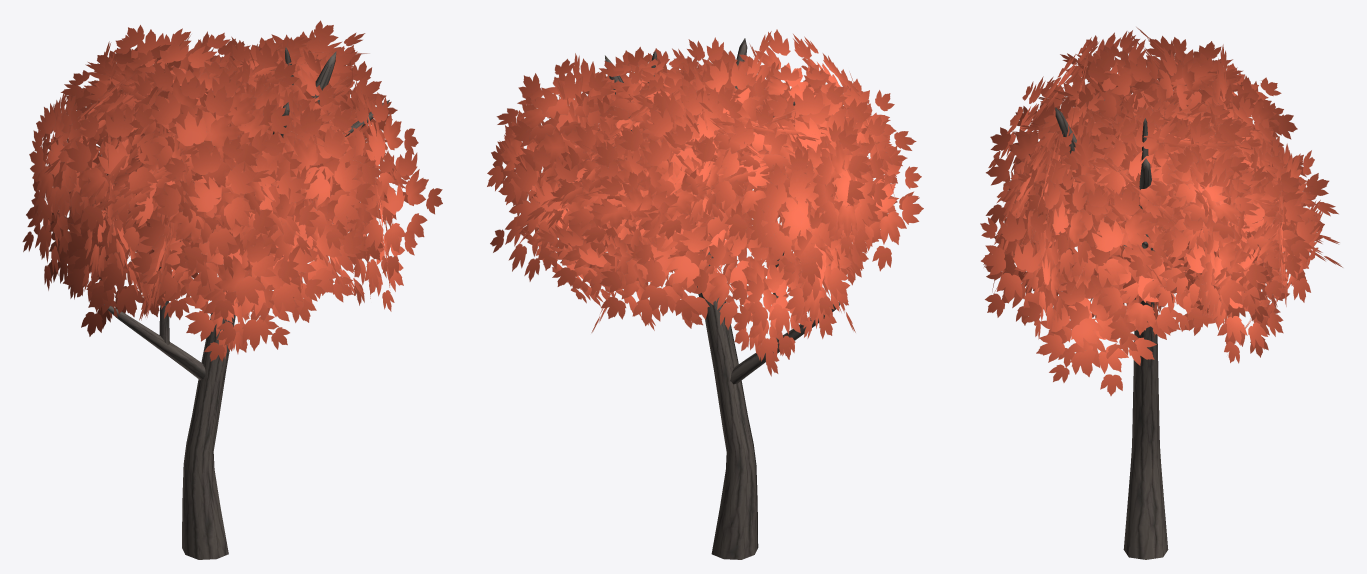
File: MapleTree_4.glb
3 views of the same model, side by side, from view 1: azimuth 30°, elevation 25°; view 2: azimuth 150°, elevation 25°; view 3: azimuth 270°, elevation 25° (orthographic). The views are drawn at different scales.
Visible parts, largest first — view 1: MapleTree_4; view 2: MapleTree_4; view 3: MapleTree_4.
Boxes of the visible parts, box(x1,y1,x2,y2) form: MapleTree_4: box(22, 20, 442, 559); MapleTree_4: box(487, 29, 923, 559); MapleTree_4: box(980, 27, 1342, 559).
Bounding box in the file's own units: 2.77 × 3.59 × 2.44.
2 materials, 2 textured.
